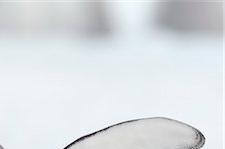Emperor Penguin: (0, 40, 69, 149)
